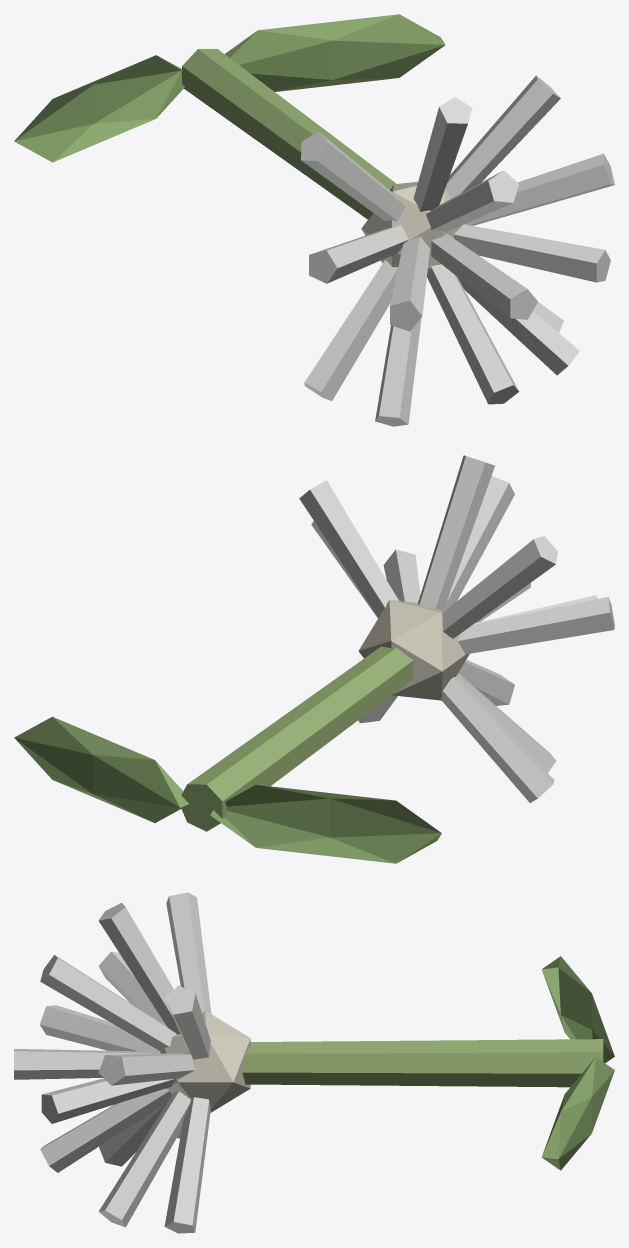
3 renders of one model, top to bottom at view 1: azimuth 30°, elevation 25°; view 2: azimuth 150°, elevation 25°; view 3: azimuth 270°, elevation 25°, orthographic. The views are drawn at different scales.
Parts seen in each view (by area): view 1: part16, part17, part0, part3, part6, part14, part12, part2, part13, part7, part8, part10 (+5 smaller); view 2: part0, part17, part16, part1, part9, part8, part14, part12, part13, part4, part3, part10 (+1 smaller); view 3: part0, part1, part11, part4, part16, part15, part6, part8, part17, part13, part3, part5 (+5 smaller).
Boxes of the visible parts, x1,y1,x2,y2 form: part16: [225, 14, 445, 91]; part17: [14, 55, 184, 162]; part0: [182, 49, 396, 219]; part3: [454, 224, 610, 282]; part6: [427, 264, 519, 404]; part14: [304, 260, 398, 400]; part12: [445, 75, 560, 198]; part2: [431, 233, 537, 319]; part13: [301, 131, 405, 221]; part7: [465, 153, 614, 225]; part8: [413, 97, 472, 211]; part10: [375, 318, 421, 426]; part0: [181, 646, 413, 831]; part17: [210, 784, 441, 863]; part16: [14, 716, 188, 822]; part1: [358, 600, 469, 700]; part9: [458, 597, 614, 654]; part8: [418, 455, 494, 611]; part14: [441, 676, 554, 802]; part12: [299, 480, 398, 617]; part13: [442, 536, 557, 638]; part4: [443, 476, 514, 611]; part3: [383, 549, 420, 602]; part10: [456, 673, 556, 772]; part0: [242, 1039, 603, 1087]; part1: [160, 1011, 250, 1112]; part11: [98, 1091, 190, 1227]; part4: [40, 955, 176, 1051]; part16: [541, 1057, 614, 1170]; part15: [164, 1097, 210, 1233]; part6: [40, 1088, 171, 1172]; part8: [98, 902, 180, 1034]; part17: [541, 956, 614, 1063]; part13: [166, 892, 211, 1013]; part3: [41, 1078, 174, 1123]; part5: [40, 1005, 159, 1051].
Size of the model in its own units: 2.74 by 1.92 by 3.63.
